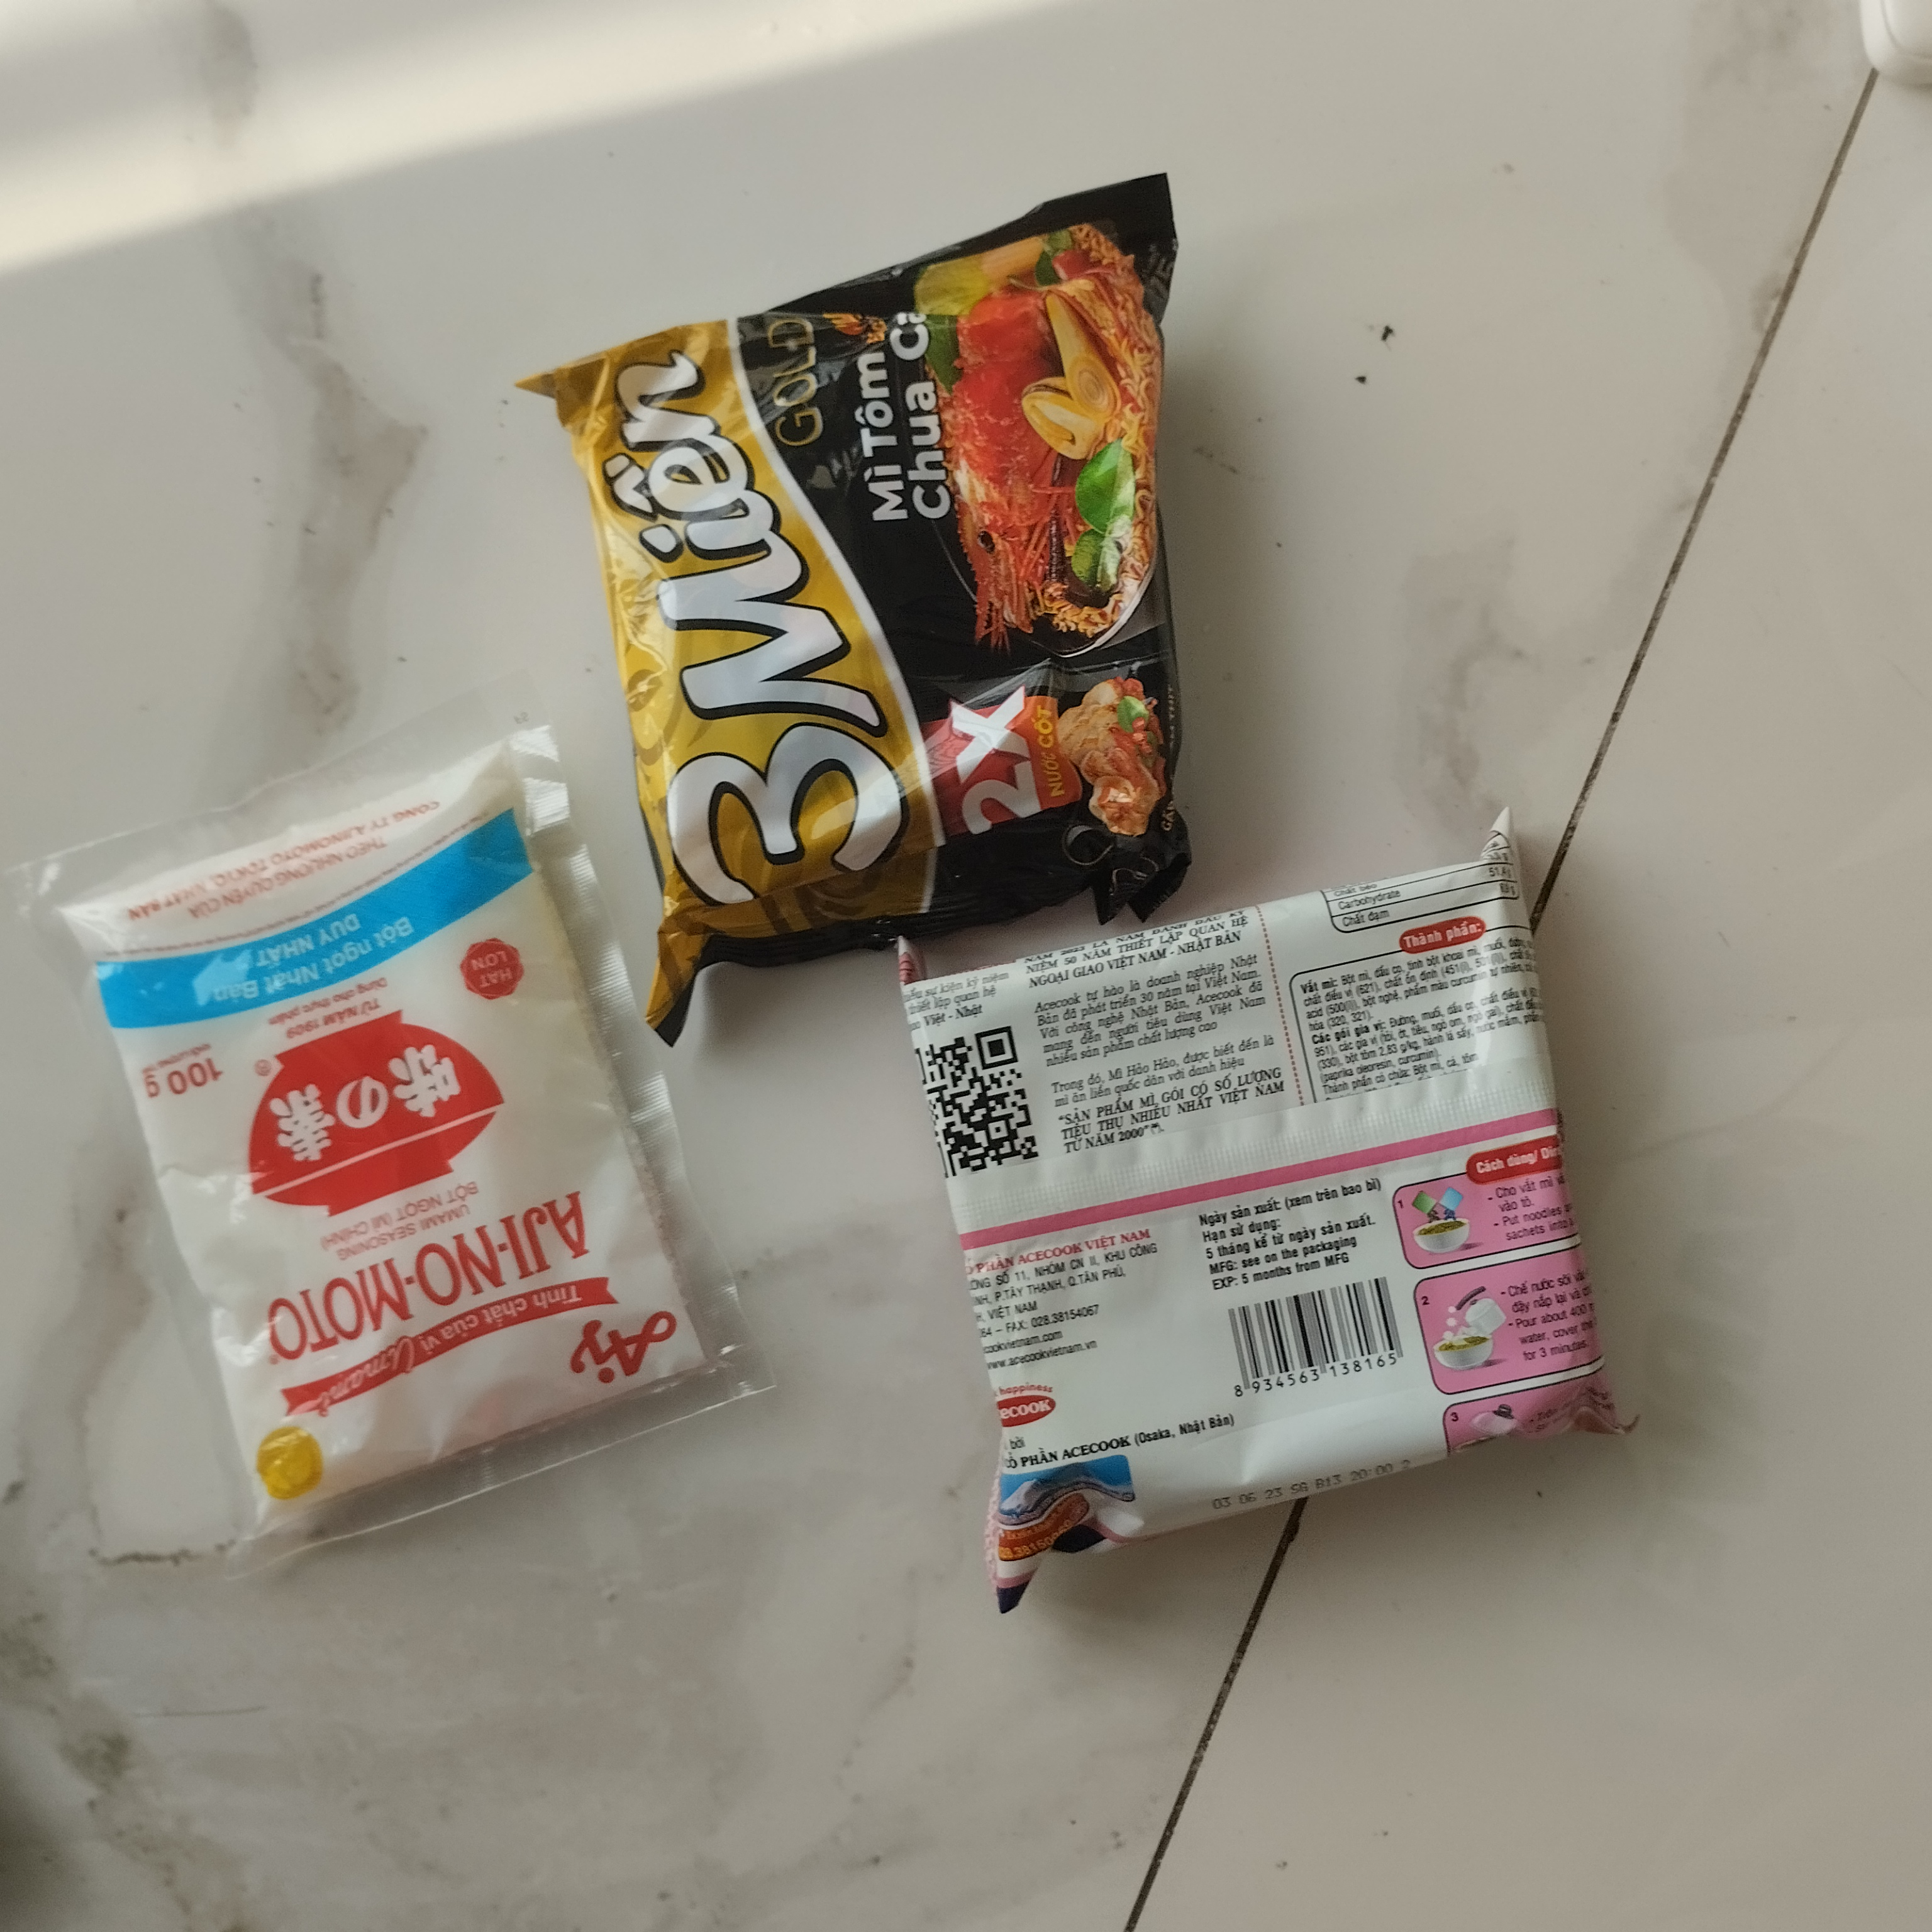3mien: (529, 166, 1221, 1030)
Ajinomoto: (16, 717, 741, 1555)
Haohao: (863, 801, 1638, 1610)
